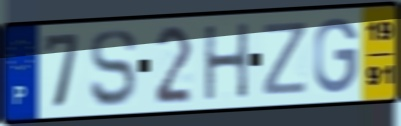2: (152, 23, 197, 108)
7: (40, 32, 84, 111)
G: (312, 16, 361, 97)
H: (201, 20, 251, 104)
S: (88, 26, 139, 109)
Z: (260, 20, 310, 99)
